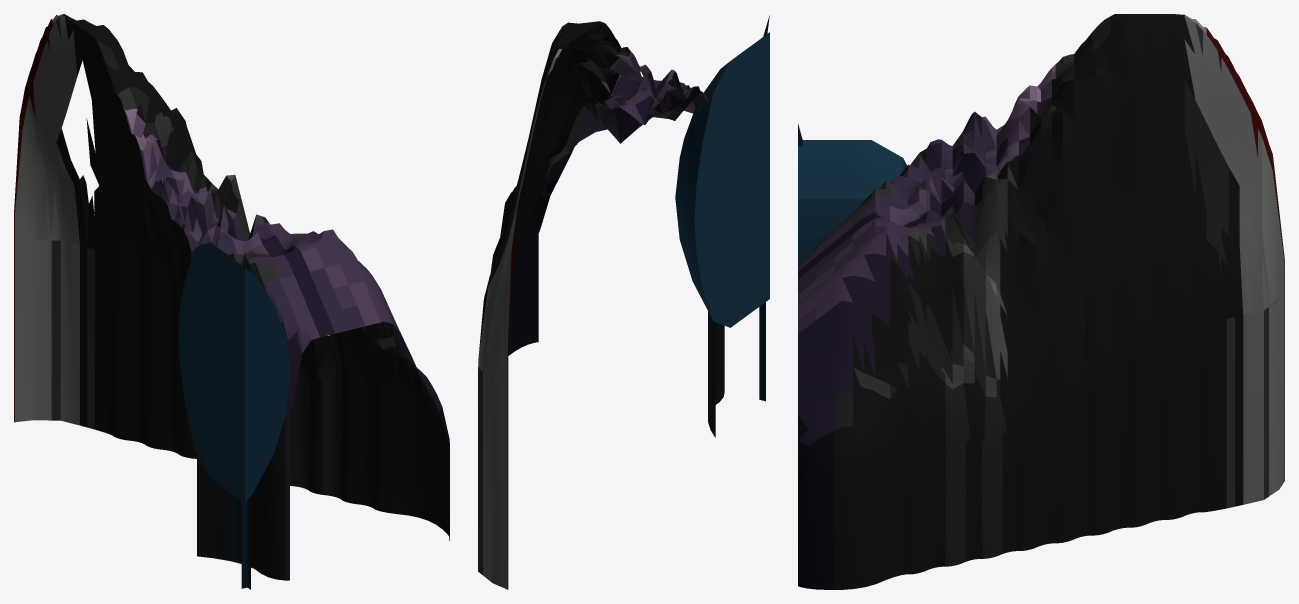
Rendered from camanis_boss_18.glb.
3 renders of one model, left to right at view 1: azimuth 30°, elevation 25°; view 2: azimuth 150°, elevation 25°; view 3: azimuth 270°, elevation 25°, orthographic. The views are drawn at different scales.
Parts seen in each view (by area): view 1: camanis_boss_18_hood_m, camanis_boss_18_tank, camanis_boss_18_tank_plate_m; view 2: camanis_boss_18_hood_m, camanis_boss_18_tank, camanis_boss_18_tank_plate_m; view 3: camanis_boss_18_hood_m, camanis_boss_18_tank.
Boxes of the visible parts, box(x1,y1,x2,y2) form: camanis_boss_18_hood_m: box(14, 14, 449, 580); camanis_boss_18_tank: box(178, 242, 290, 503); camanis_boss_18_tank_plate_m: box(241, 253, 250, 589); camanis_boss_18_hood_m: box(478, 21, 724, 589); camanis_boss_18_tank: box(675, 32, 769, 327); camanis_boss_18_tank_plate_m: box(759, 15, 769, 401); camanis_boss_18_hood_m: box(798, 14, 1284, 589); camanis_boss_18_tank: box(798, 140, 907, 267).
Size of the model in its own units: 13.99 by 28 by 26.44.
